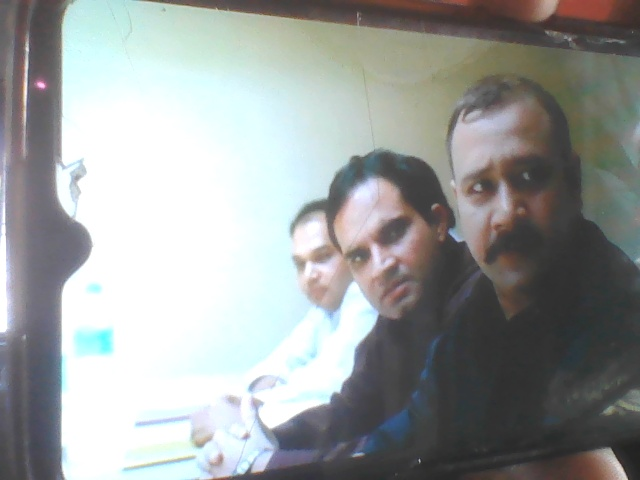fake: (433, 68, 595, 297), (329, 145, 458, 328)
